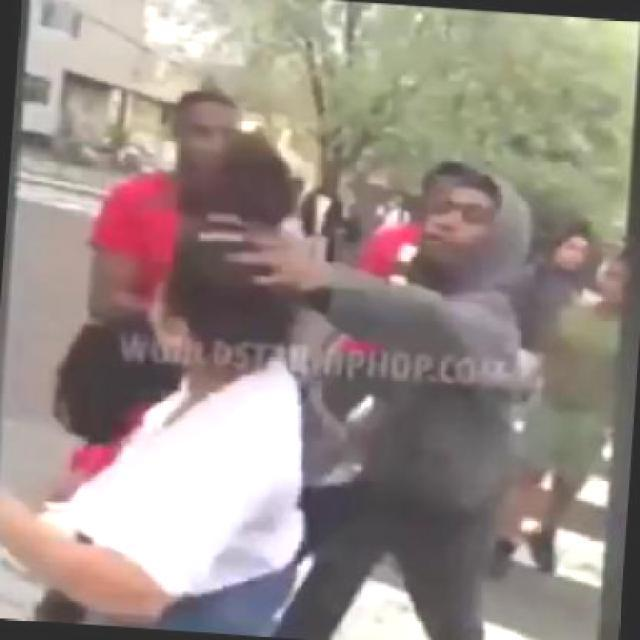fight: (143, 136, 532, 582)
